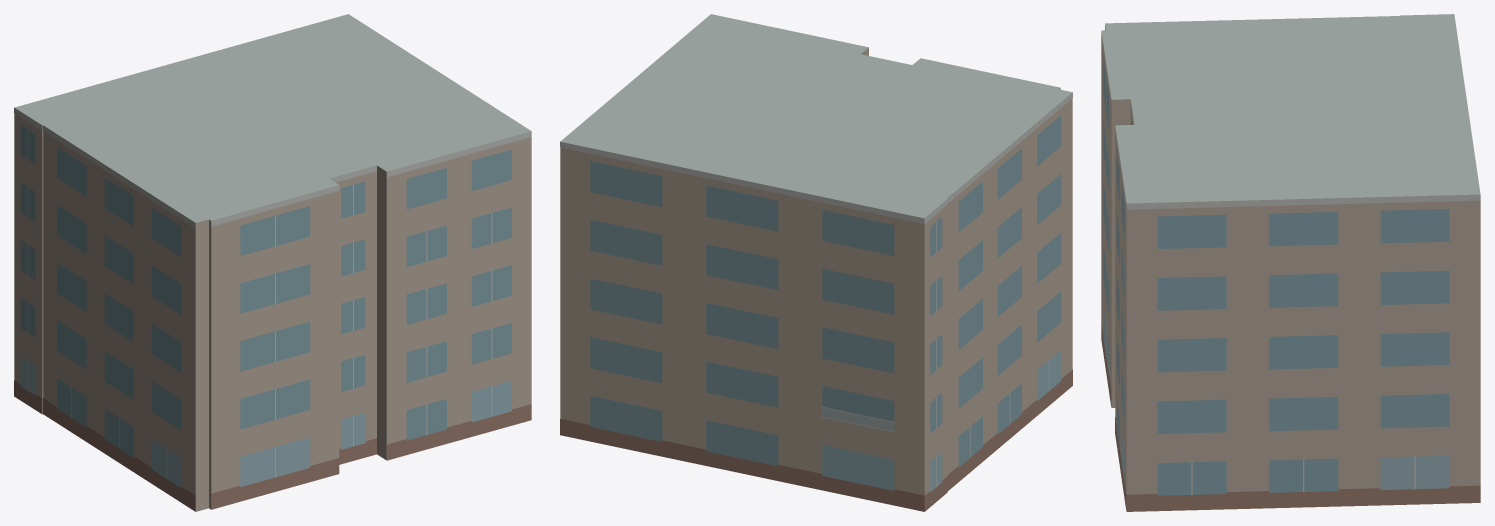
The model's file is survey-upis-32956825.glb.
3 views of the same model, side by side, from view 1: azimuth 30°, elevation 25°; view 2: azimuth 150°, elevation 25°; view 3: azimuth 270°, elevation 25° (orthographic). The views are drawn at different scales.
Parts seen in each view (by area): view 1: survey-upis-32956825.tmp; view 2: survey-upis-32956825.tmp; view 3: survey-upis-32956825.tmp.
Part boxes in pixels (<box>): survey-upis-32956825.tmp: <box>14,14,531,511</box>; survey-upis-32956825.tmp: <box>560,14,1072,511</box>; survey-upis-32956825.tmp: <box>1101,14,1480,511</box>.
Bounding box in the file's own units: 16.22 × 12.3 × 13.72.
